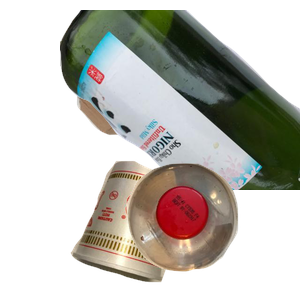cardboard: (74, 42, 225, 170)
glass: (60, 10, 300, 190)
plastic: (124, 161, 300, 300)
trash: (68, 158, 235, 300)
